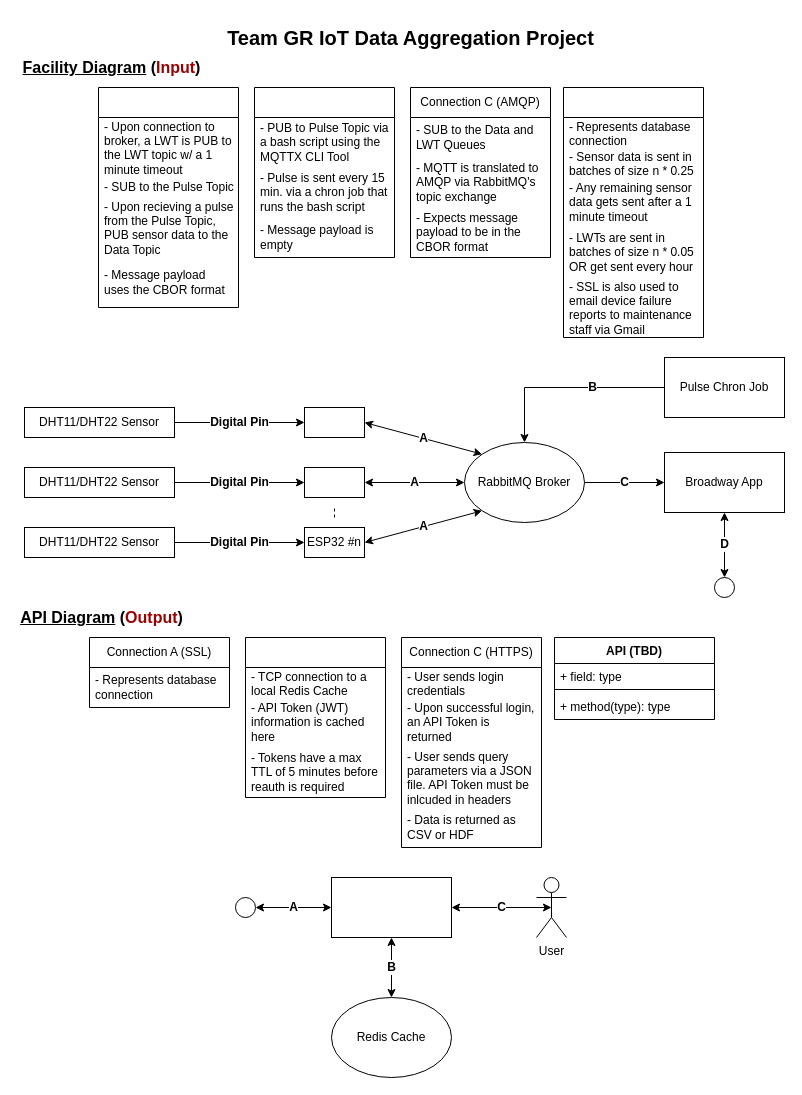
Some shapes in this 802 by 1095 pixel diagram are drawn without their labels. Each missing label, with the box of its shape:
Connection A (MQTT): (98, 86, 238, 308)
Connection B (MQTT): (254, 86, 394, 258)
Connection B (TCP): (244, 636, 386, 798)
Connection D (SSL): (562, 86, 704, 338)
ESP32 #1: (304, 406, 364, 438)
ESP32 #2: (304, 466, 364, 498)
Phoenix REST API: (330, 876, 452, 938)
